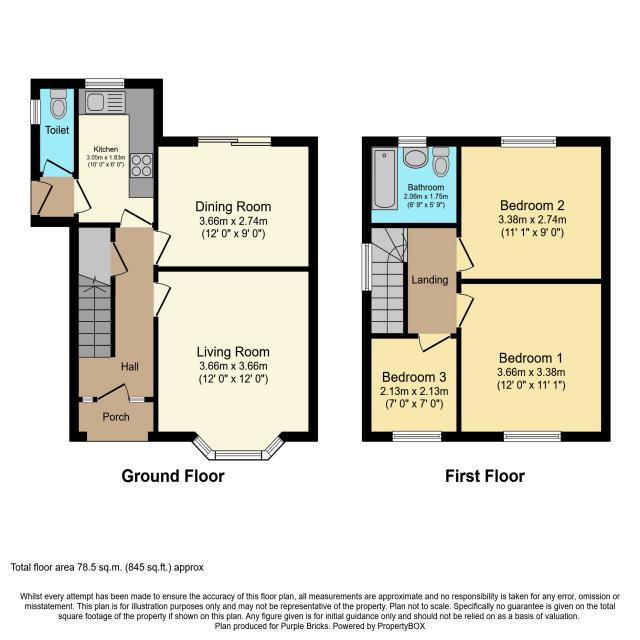DOOR: (30, 180, 54, 216), (417, 332, 451, 355), (455, 236, 476, 273), (455, 292, 476, 329), (73, 178, 93, 214), (153, 230, 173, 266), (110, 241, 130, 277), (153, 281, 173, 317), (119, 207, 153, 228), (96, 382, 129, 403), (42, 158, 73, 178)
ROOM: (153, 266, 318, 461), (455, 278, 611, 442), (455, 136, 611, 285), (153, 136, 318, 272), (69, 78, 163, 228), (361, 333, 462, 442)
SLIDING DOOR: (195, 135, 273, 148)
WINDOW: (502, 430, 562, 443), (499, 136, 557, 148), (391, 430, 442, 443), (361, 241, 373, 293), (215, 450, 262, 461), (191, 435, 213, 458), (264, 435, 285, 458), (85, 78, 125, 89), (397, 135, 428, 148), (30, 99, 41, 125), (129, 396, 145, 403), (82, 396, 93, 403)
